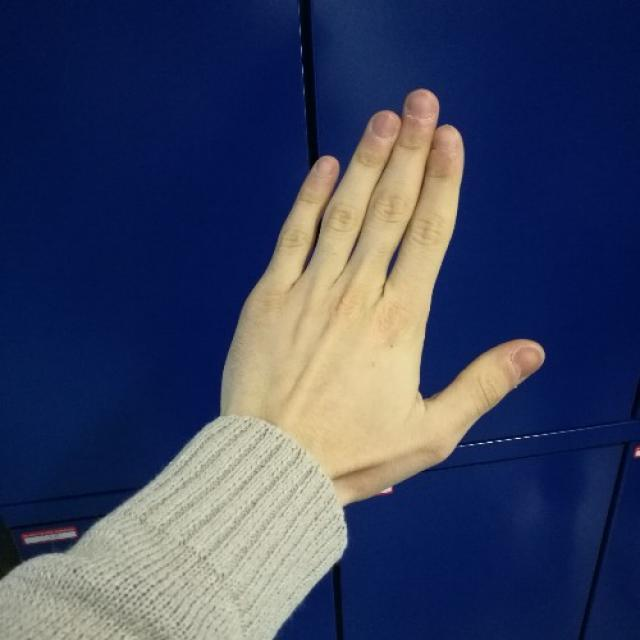paper: (217, 91, 545, 491)
